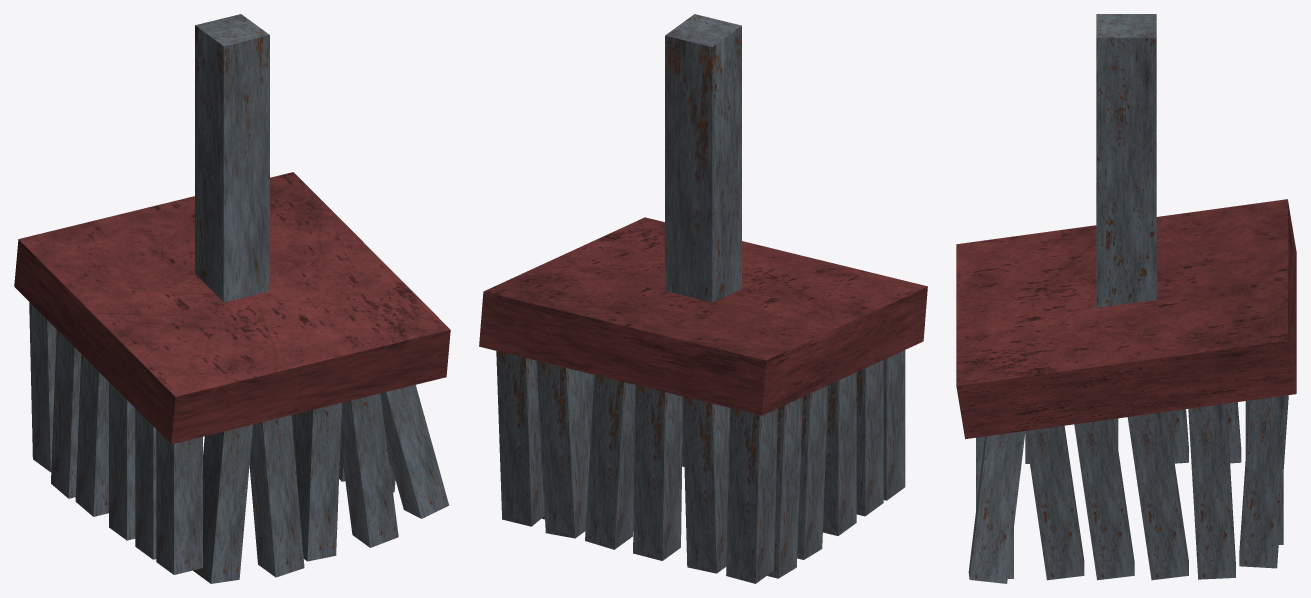
File: Chandelier1.fbx
3 views of the same model, side by side, from view 1: azimuth 30°, elevation 25°; view 2: azimuth 150°, elevation 25°; view 3: azimuth 270°, elevation 25° (orthographic). The views are drawn at different scales.
Parts seen in each view (by area): view 1: Cube.001, Cube, Cube.015, Cube.014, Cube.017, Cube.016, Cube.003, Cube.007, Cube.018, Cube.004, Cube.002, Cube.005 (+1 smaller); view 2: Cube.001, Cube, Cube.005, Cube.011, Cube.013, Cube.012, Cube.010, Cube.009, Cube.002, Cube.004, Cube.018, Cube.019 (+1 smaller); view 3: Cube.001, Cube, Cube.008, Cube.009, Cube.006, Cube.020, Cube.021, Cube.007, Cube.018, Cube.004, Cube.017.
Part boxes in pixels (x1=…): Cube.001: x1=14, y1=172, x2=450, y2=444; Cube: x1=195, y1=14, x2=269, y2=302; Cube.015: x1=249, y1=415, x2=304, y2=577; Cube.014: x1=193, y1=424, x2=252, y2=583; Cube.017: x1=340, y1=393, x2=398, y2=547; Cube.016: x1=293, y1=403, x2=341, y2=561; Cube.003: x1=156, y1=429, x2=202, y2=574; Cube.007: x1=380, y1=385, x2=449, y2=518; Cube.018: x1=75, y1=354, x2=108, y2=516; Cube.004: x1=51, y1=329, x2=81, y2=498; Cube.002: x1=109, y1=382, x2=135, y2=540; Cube.005: x1=29, y1=302, x2=56, y2=472; Cube.001: x1=479, y1=217, x2=927, y2=415; Cube: x1=665, y1=14, x2=741, y2=302; Cube.005: x1=726, y1=408, x2=777, y2=583; Cube.011: x1=633, y1=385, x2=682, y2=560; Cube.013: x1=536, y1=360, x2=589, y2=538; Cube.012: x1=585, y1=375, x2=635, y2=549; Cube.010: x1=682, y1=396, x2=729, y2=573; Cube.009: x1=496, y1=351, x2=544, y2=526; Cube.002: x1=823, y1=372, x2=856, y2=535; Cube.004: x1=767, y1=397, x2=802, y2=578; Cube.018: x1=797, y1=385, x2=828, y2=559; Cube.019: x1=856, y1=360, x2=883, y2=516; Cube.001: x1=956, y1=199, x2=1296, y2=439; Cube: x1=1096, y1=14, x2=1156, y2=307; Cube.008: x1=1188, y1=403, x2=1235, y2=579; Cube.009: x1=1239, y1=395, x2=1288, y2=568; Cube.006: x1=1127, y1=411, x2=1188, y2=580; Cube.020: x1=1074, y1=419, x2=1134, y2=580; Cube.021: x1=1025, y1=425, x2=1084, y2=580; Cube.007: x1=968, y1=431, x2=1025, y2=583; Cube.018: x1=1167, y1=409, x2=1188, y2=463; Cube.004: x1=1226, y1=402, x2=1241, y2=463; Cube.017: x1=976, y1=436, x2=1013, y2=578.
Bounding box in the file's own units: 408 × 679 × 407.
